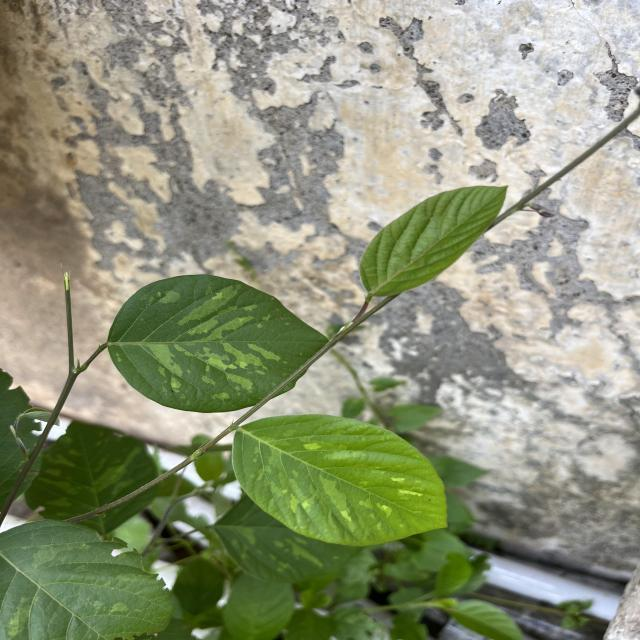Desmodium gangeticum: (103, 271, 332, 416), (230, 411, 450, 549)
